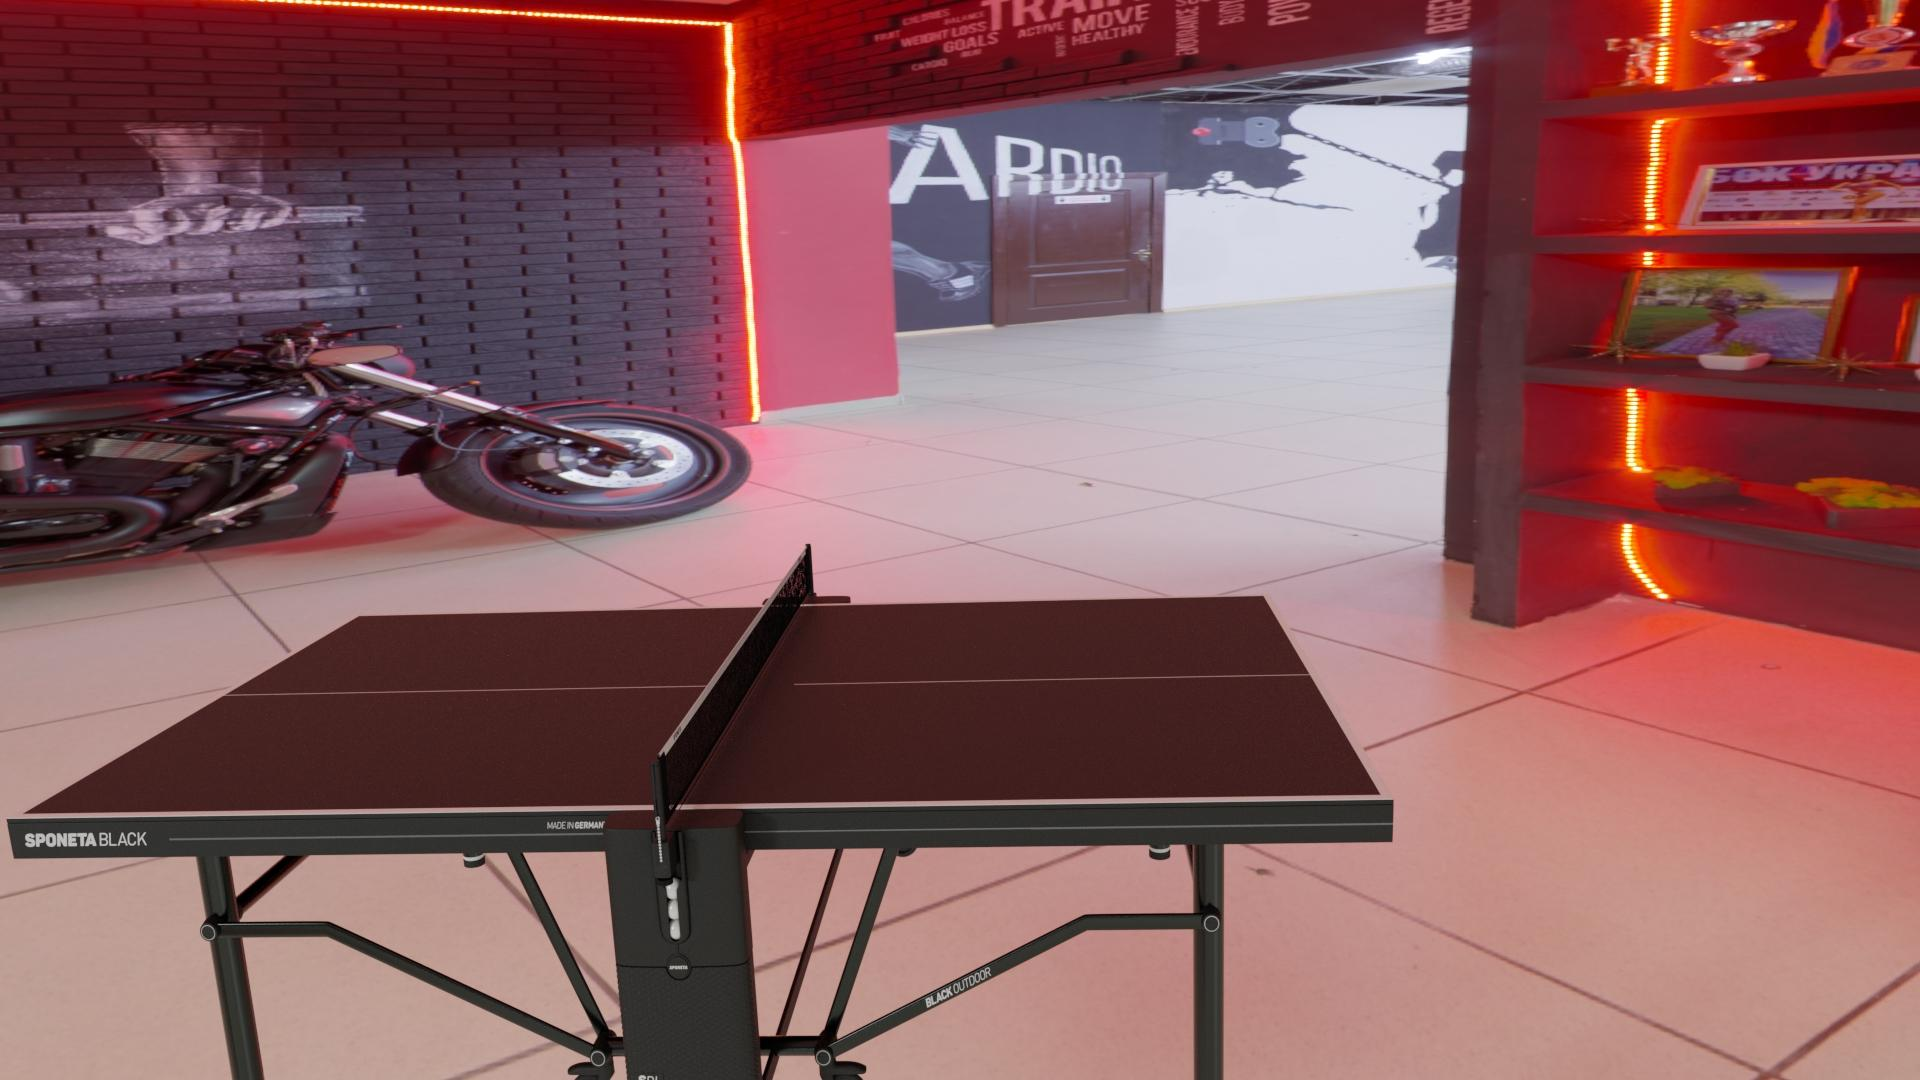table: (22, 596, 1381, 814)
